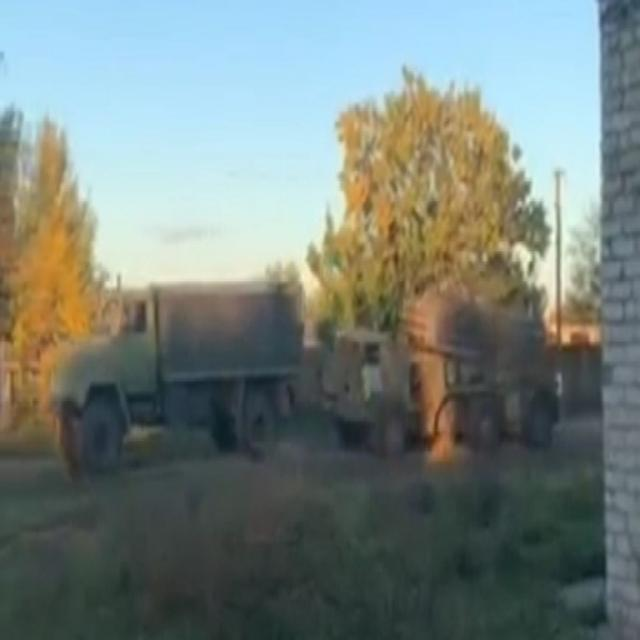MLRS: (322, 282, 554, 462)
TRUCK: (50, 280, 304, 476)
